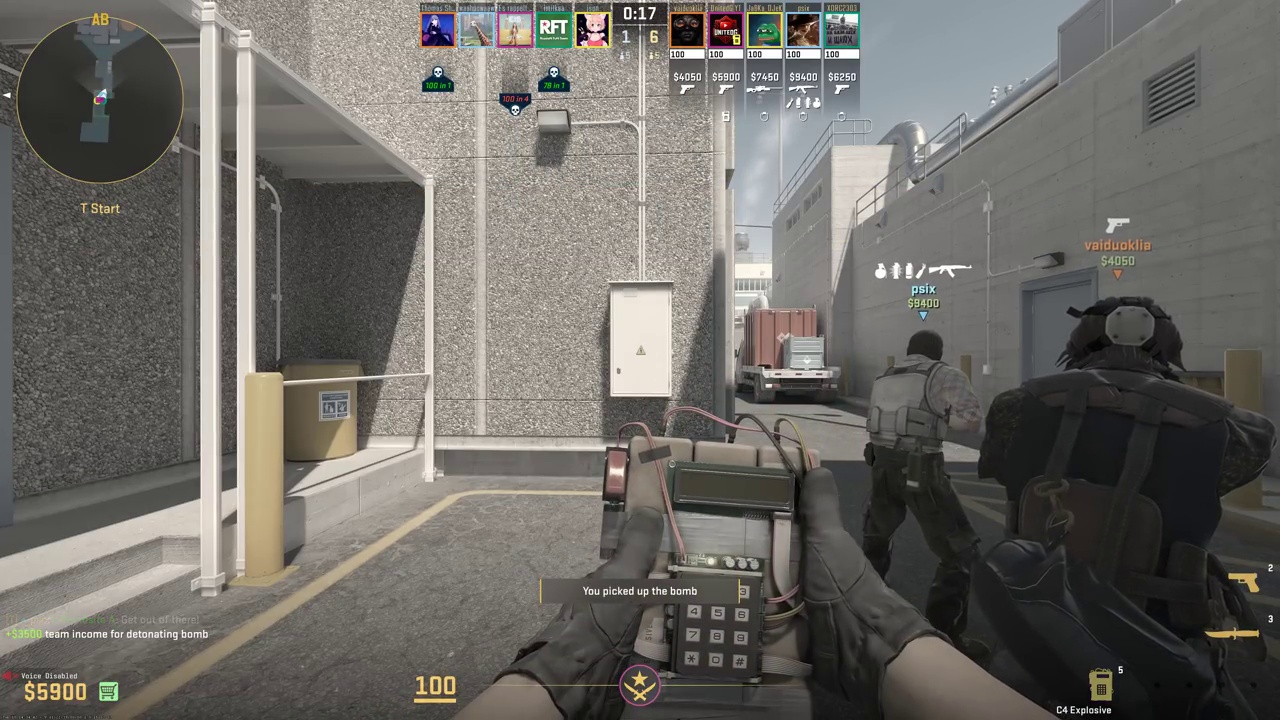Terrorist: (988, 297, 1268, 708), (860, 328, 976, 630)
